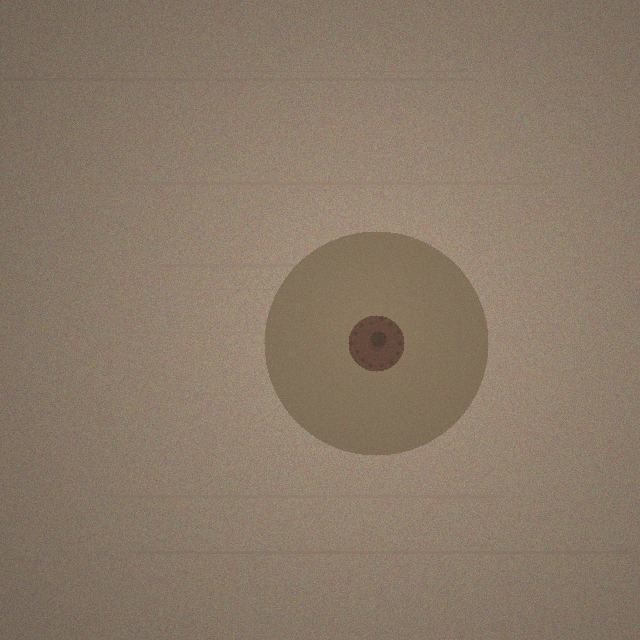cold_weld: (264, 231, 488, 455)
